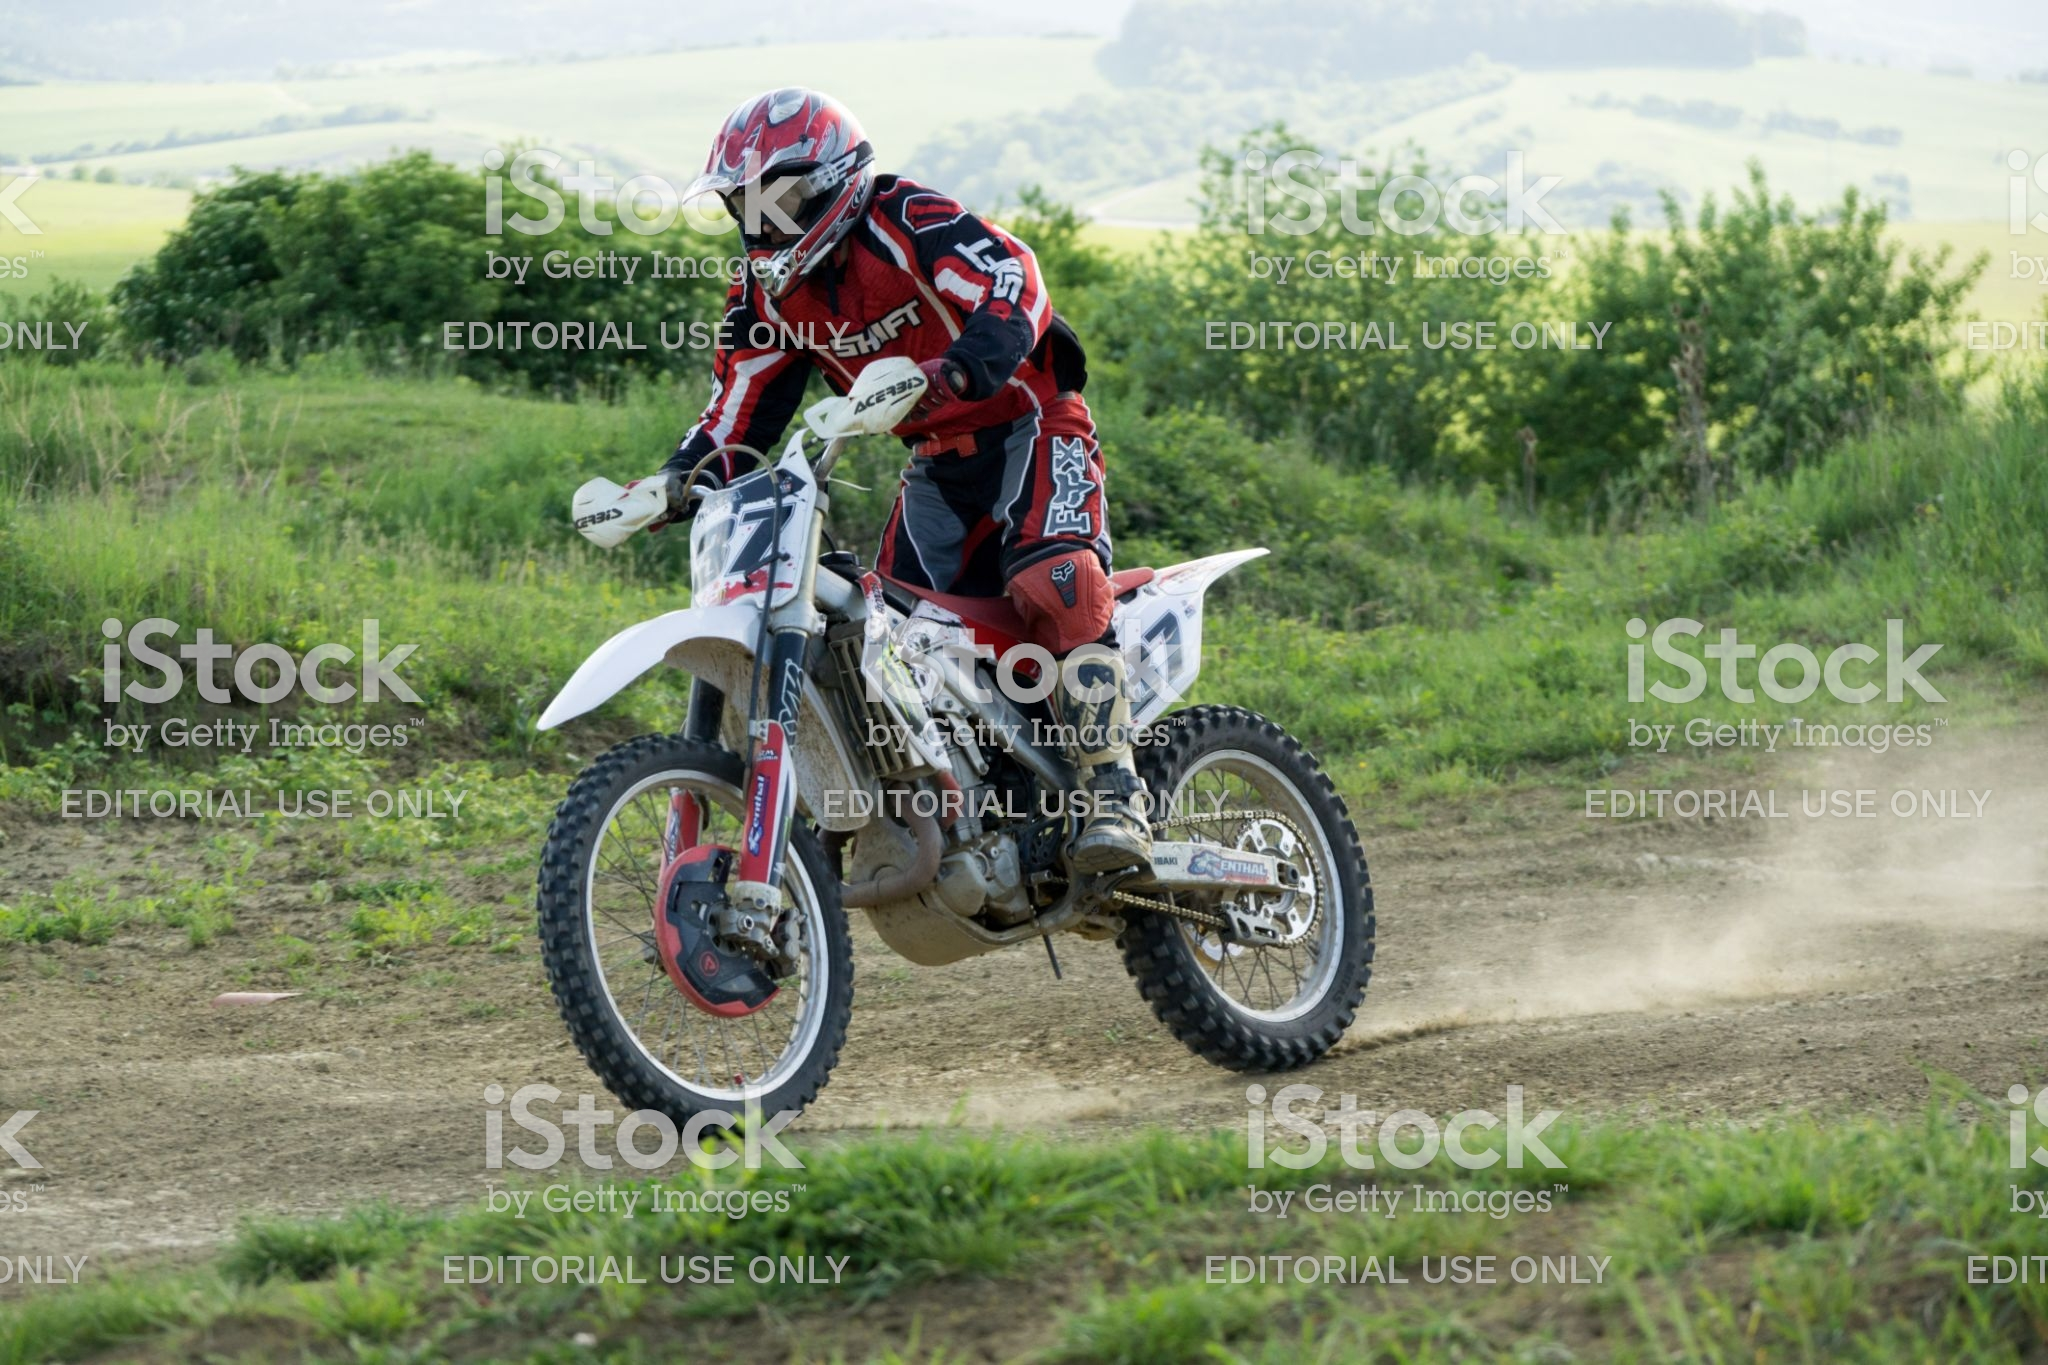helmet: (697, 90, 877, 286)
